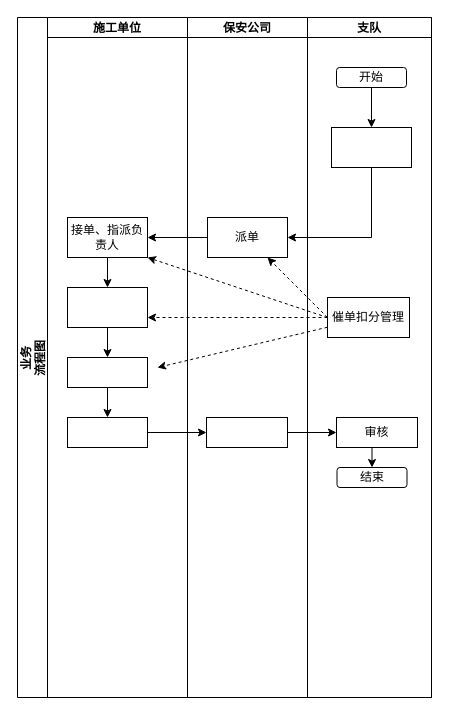
This 449x715 diagram has some shape labels left out. The centre of each missing label's shape, as x and y in pixels:
"上传施工进度" belongs at (107,372).
"发起报修单" belongs at (371,147).
"施工" belongs at (107,307).
"施工结束" belongs at (107,432).
"监理评估工程工作量和质量" belongs at (247,432).
